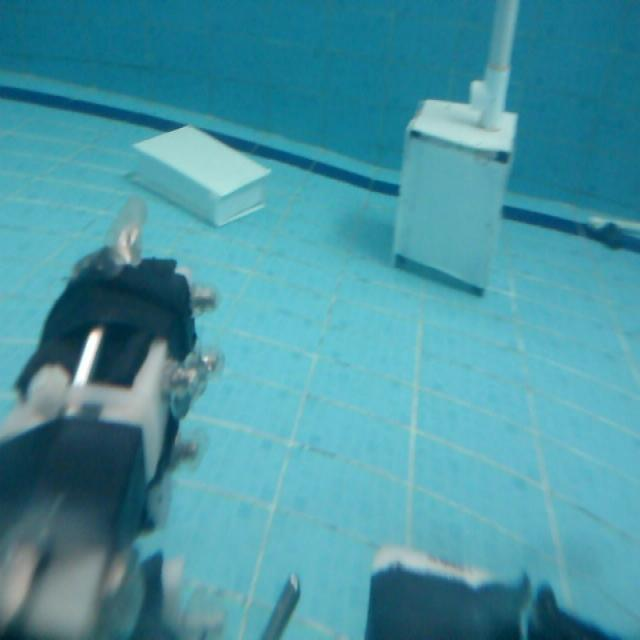Cube: (391, 96, 523, 301)
Cuboid: (130, 120, 271, 227)
